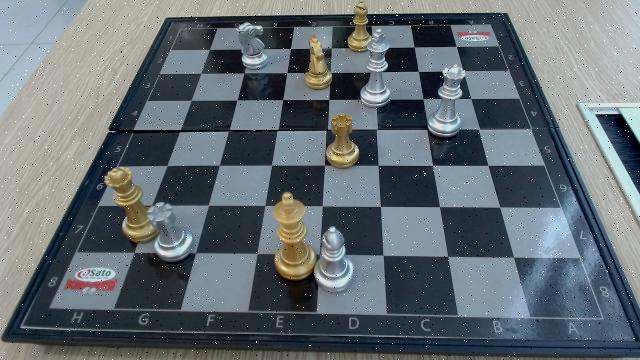black_bishop: (345, 1, 370, 51)
black_king: (271, 192, 315, 282)
black_knight: (304, 36, 332, 90)
black_queen: (103, 167, 149, 243)
black_rook: (324, 114, 359, 170)
white_bishop: (314, 227, 354, 293)
white_king: (367, 30, 391, 108)
white_knight: (235, 22, 268, 70)
white_queen: (427, 63, 467, 139)
white_rook: (150, 202, 194, 264)
